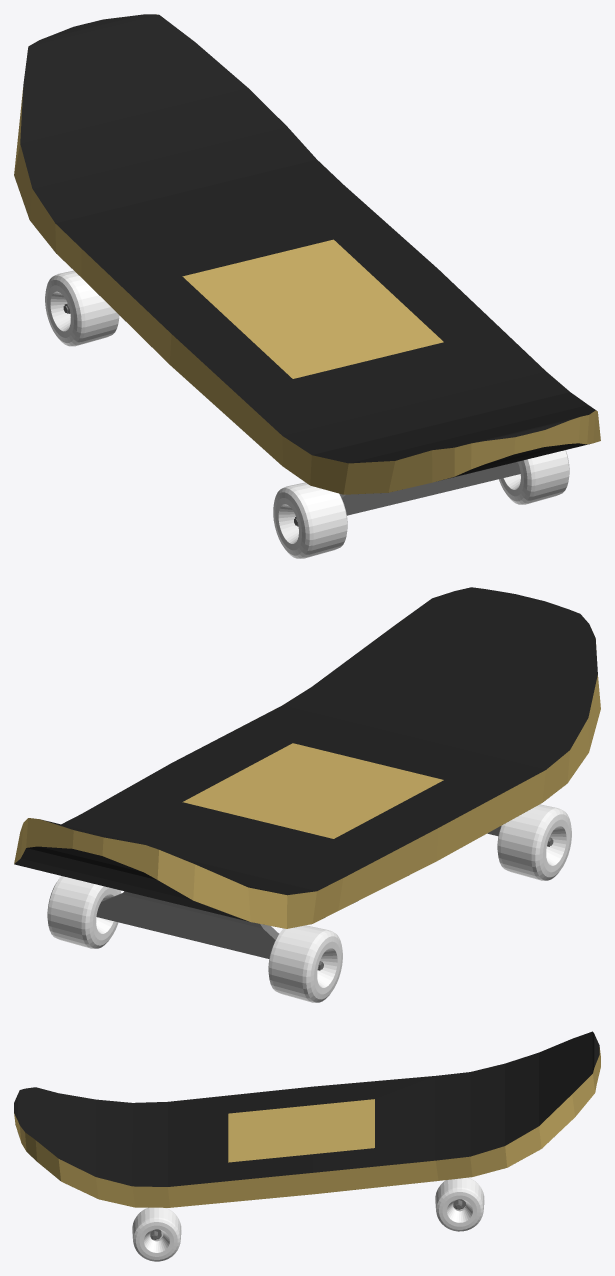
File: skate-v1.glb
3 views of the same model, one above another, from view 1: azimuth 30°, elevation 25°; view 2: azimuth 150°, elevation 25°; view 3: azimuth 270°, elevation 25° (orthographic). The views are drawn at different scales.
Parts seen in each view (by area): view 1: Cube, Cylinder, Cylinder.002, Cylinder.001; view 2: Cube, Cylinder.002, Cylinder, Cylinder.003; view 3: Cube, Cylinder.001, Cylinder.003.
Boxes of the visible parts, x1,y1,x2,y2 form: Cube: (14,14,600,526); Cylinder: (273,482,347,558); Cylinder.002: (45,270,119,346); Cylinder.001: (499,450,569,504); Cube: (14,587,600,970); Cylinder.002: (268,925,342,1002); Cylinder: (497,804,571,880); Cylinder.003: (47,876,120,948); Cube: (14,1031,600,1239); Cylinder.001: (132,1207,181,1261); Cylinder.003: (435,1177,484,1231).
Bounding box in the file's own units: 2 × 1.85 × 5.75.
